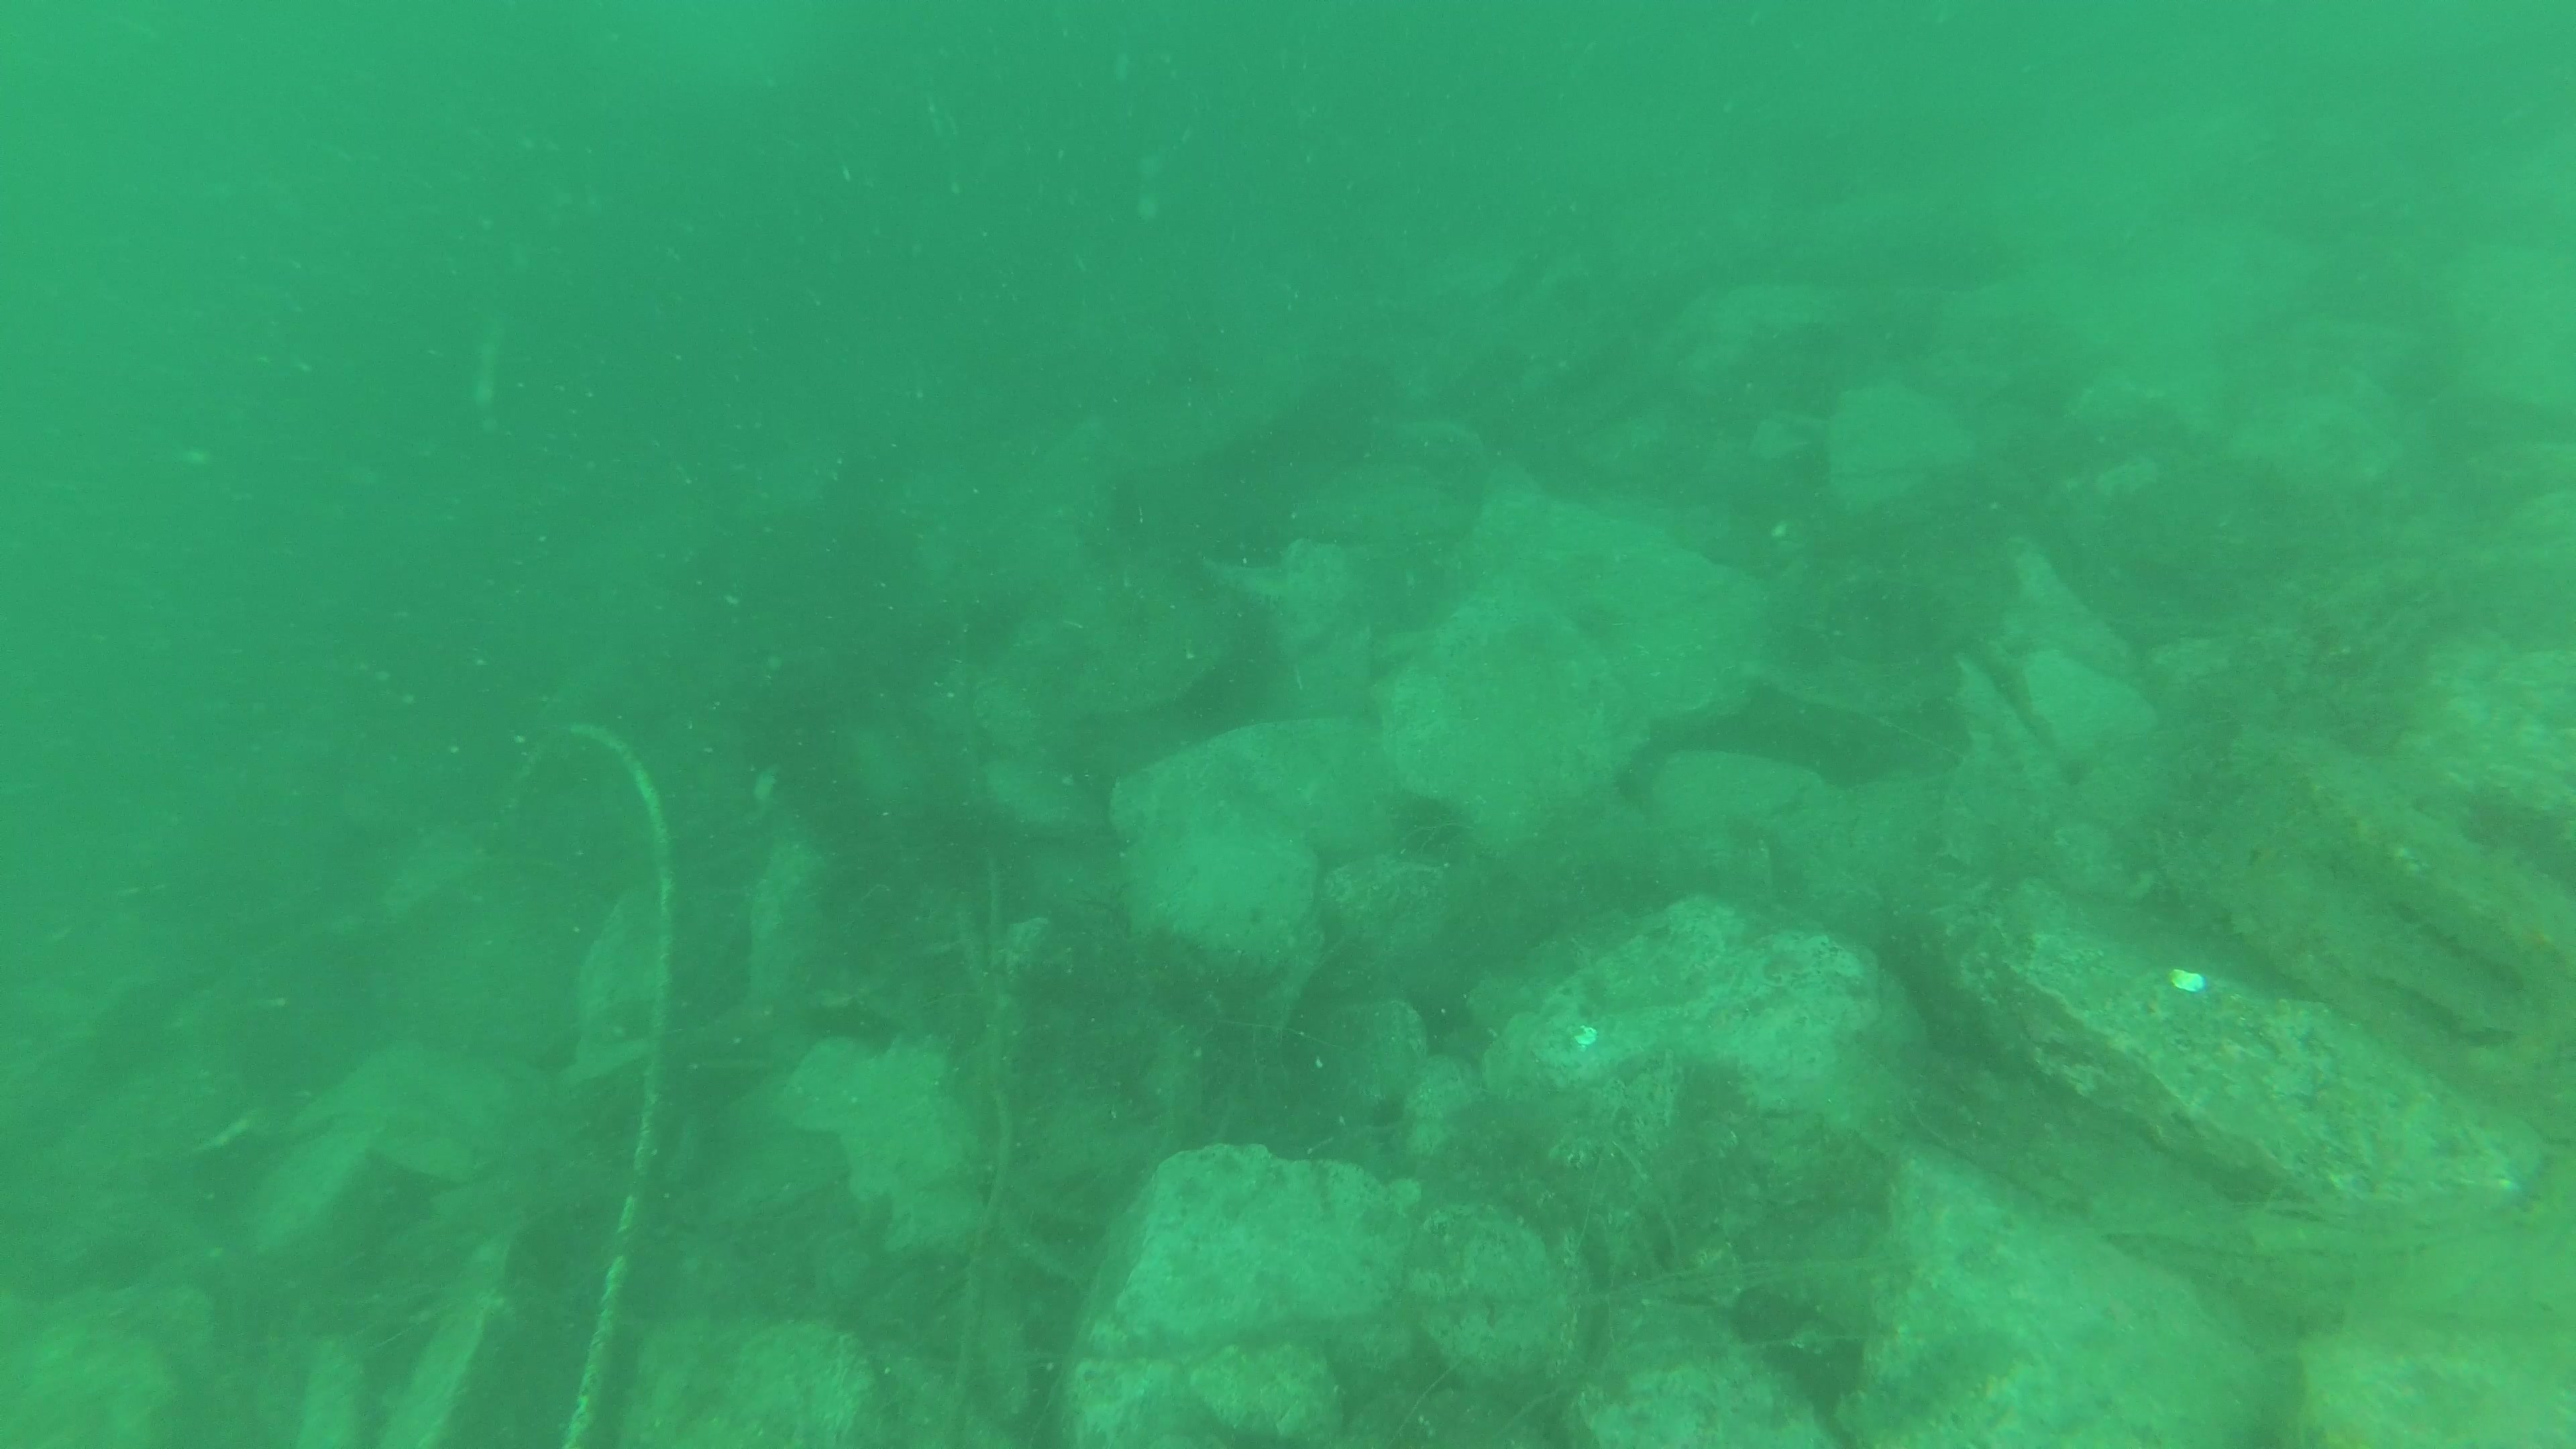echinus: (1384, 780, 1470, 858)
holothurian: (1875, 1047, 2249, 1253), (2286, 757, 2576, 1008)
